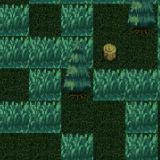Obstacle: (125, 4, 157, 37), (61, 68, 93, 100), (94, 37, 126, 68)
Slow: (0, 37, 93, 68), (93, 68, 160, 100), (0, 100, 61, 134), (125, 101, 158, 160), (29, 68, 62, 100), (61, 4, 92, 36), (0, 4, 28, 36), (61, 134, 93, 160)
